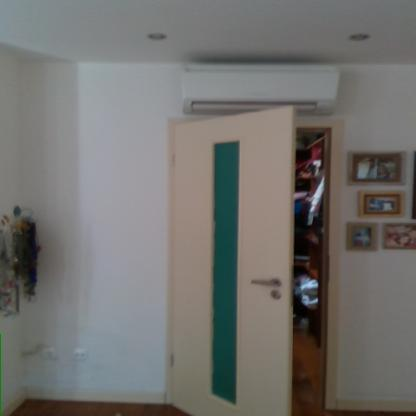semi: (162, 114, 344, 416)
